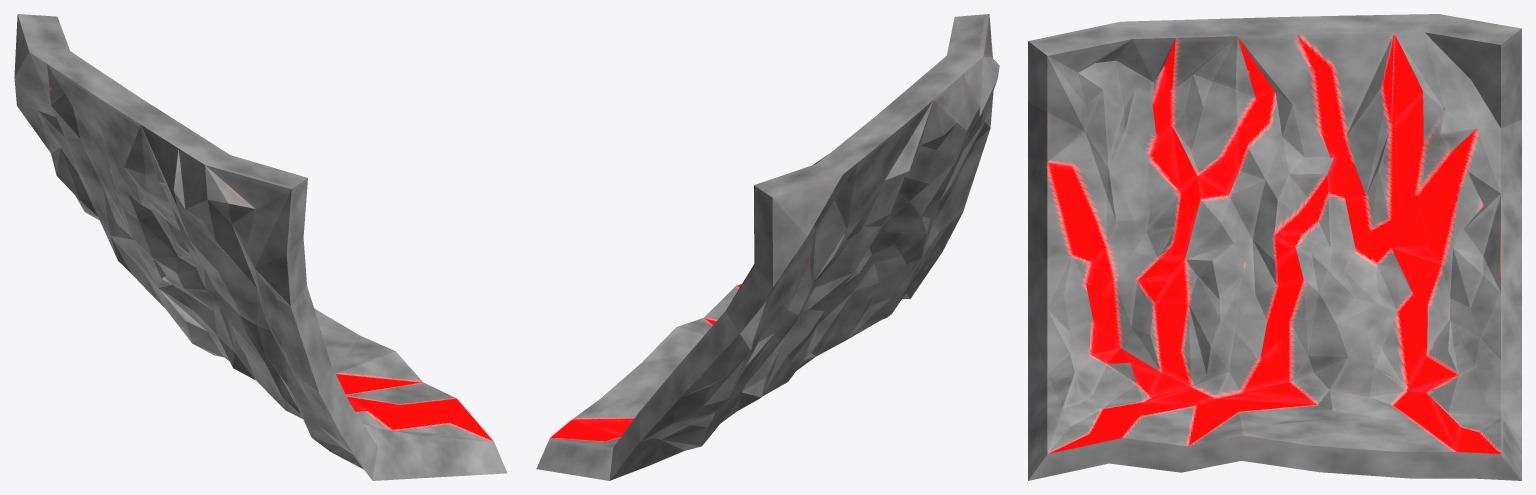
Rendered from Cliff1.gltf.
3 renders of one model, left to right at view 1: azimuth 30°, elevation 25°; view 2: azimuth 150°, elevation 25°; view 3: azimuth 270°, elevation 25°, orthographic. The views are drawn at different scales.
Visible parts, largest first — view 1: Cliff1; view 2: Cliff1; view 3: Cliff1.
Boxes of the visible parts, left/top/right/bottom form: Cliff1: left=14, top=14, right=506, bottom=480; Cliff1: left=536, top=14, right=999, bottom=480; Cliff1: left=1028, top=14, right=1521, bottom=480.
Bounding box in the file's own units: 3.44 × 4.08 × 5.44.
2 materials, 2 textured.
